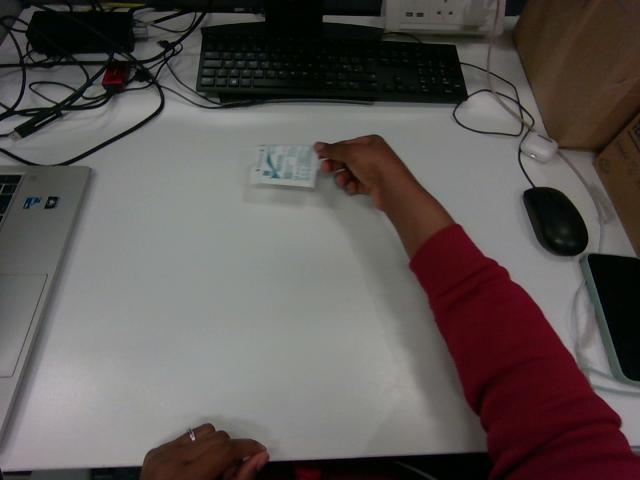gauze: (252, 145, 318, 187)
